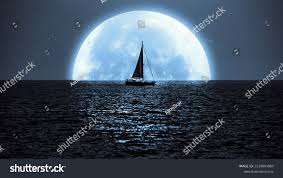boat: (125, 41, 158, 87)
